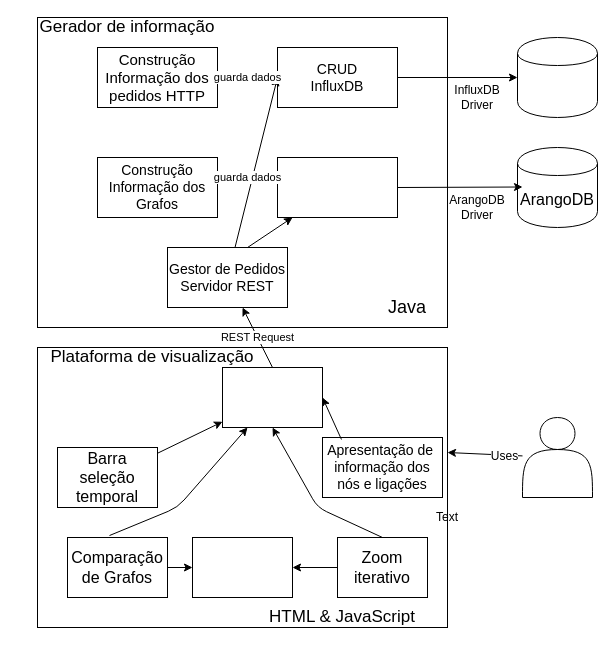
Some shapes in this 615 by 645 pixel diagram are drawn without their labels. The shapes that lost their labels are listed below. From the top down, each one's centre as x and y in pixels, then its label:
[557,77]: InfluxDB
[337,187]: CRUD ArangoDB
[272,397]: Acesso ao servidor
[242,567]: Construção de um grafo
